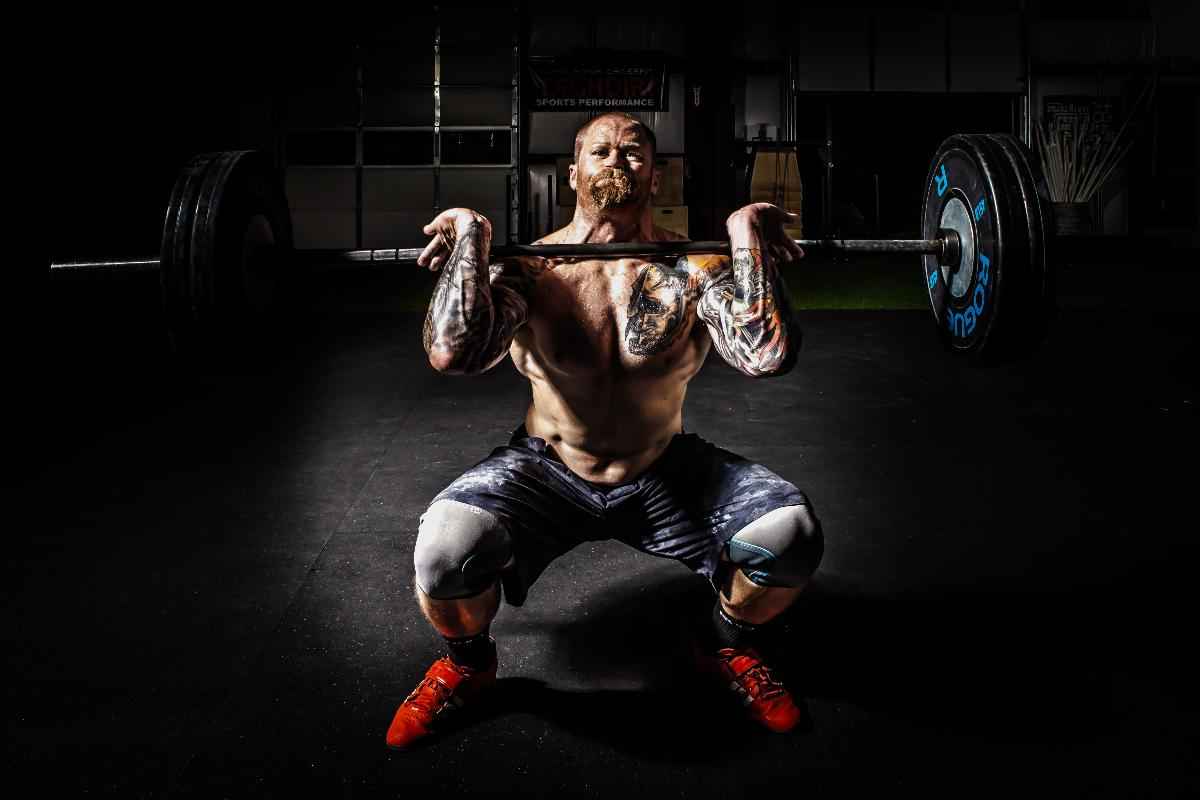Person: (384, 101, 841, 751)
